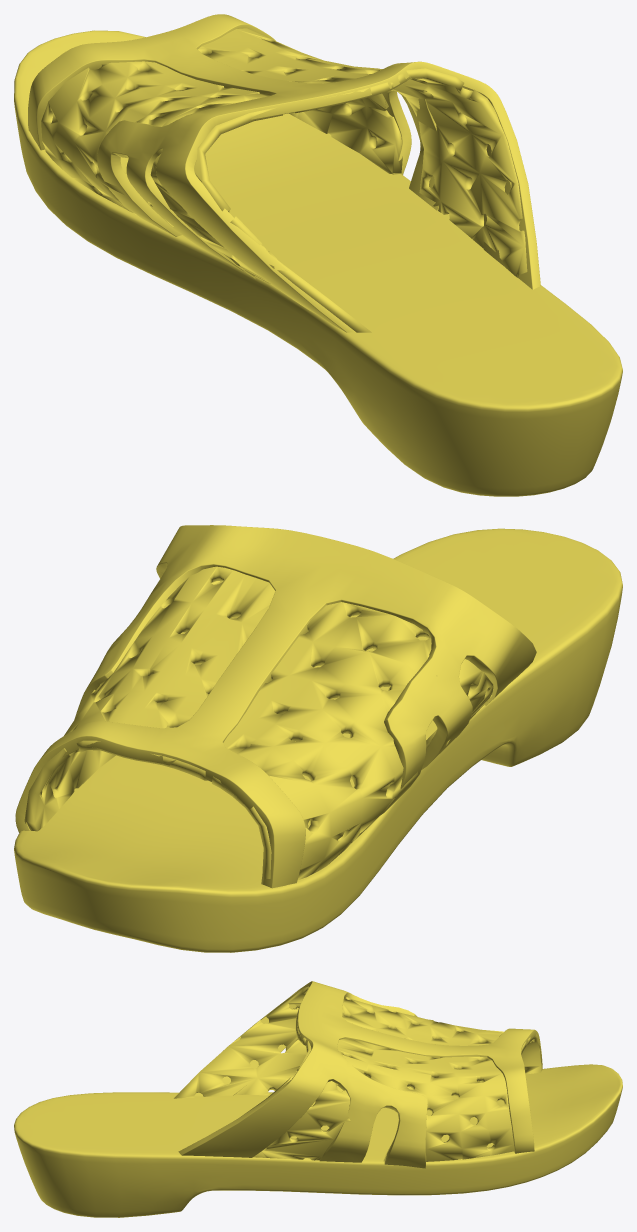
Rendered from dep_to_ong.glb.
3 views of the same model, one above another, from view 1: azimuth 30°, elevation 25°; view 2: azimuth 150°, elevation 25°; view 3: azimuth 270°, elevation 25° (orthographic). The views are drawn at different scales.
Parts seen in each view (by area): view 1: Plane.007_0; view 2: Plane.007_0; view 3: Plane.007_0.
Part boxes in pixels (x1,y1,x2,y2): Plane.007_0: [14, 14, 622, 496]; Plane.007_0: [14, 525, 622, 952]; Plane.007_0: [14, 981, 622, 1217].
Bounding box in the file's own units: 1.61 × 1.31 × 4.14.
